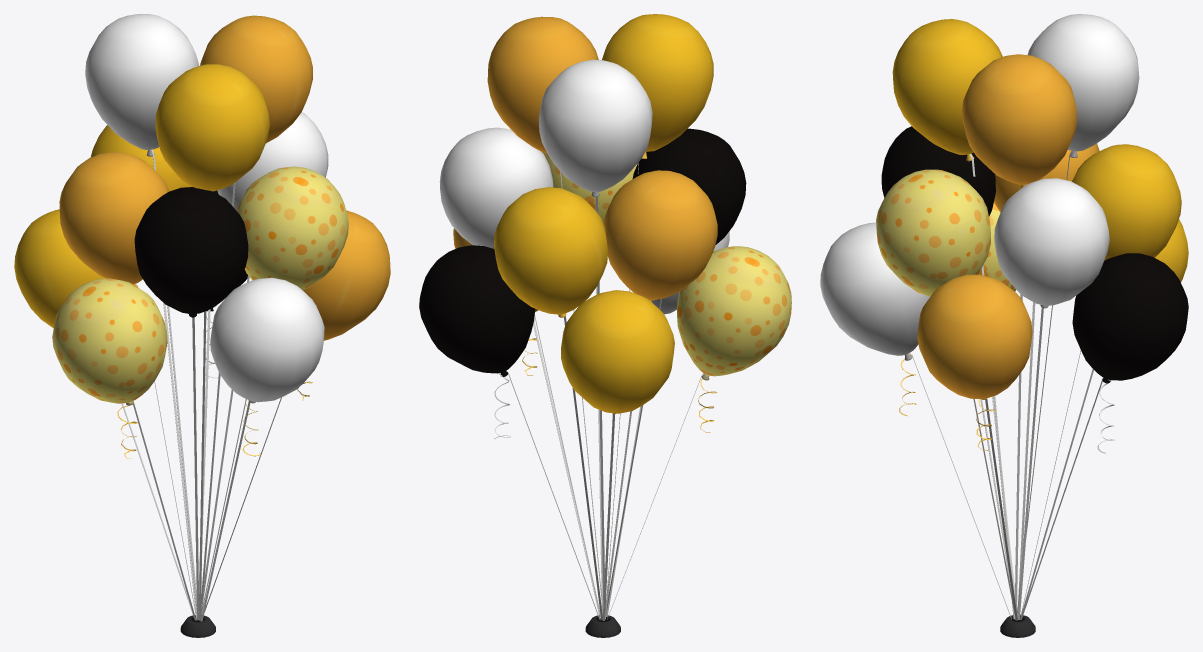
The model's file is PartyBalloons03_GR1_1.FBX.
3 renders of one model, left to right at view 1: azimuth 30°, elevation 25°; view 2: azimuth 150°, elevation 25°; view 3: azimuth 270°, elevation 25°, orthographic.
Visible parts, largest first — view 1: PartyBalloons03_GR1_1; view 2: PartyBalloons03_GR1_1; view 3: PartyBalloons03_GR1_1.
Boxes of the visible parts, x1=… form: PartyBalloons03_GR1_1: x1=14, y1=14, x2=390, y2=637; PartyBalloons03_GR1_1: x1=419, y1=14, x2=791, y2=637; PartyBalloons03_GR1_1: x1=820, y1=14, x2=1188, y2=637.
Size of what is drawn, in the model's own units: 1.16 by 2.03 by 1.13.
